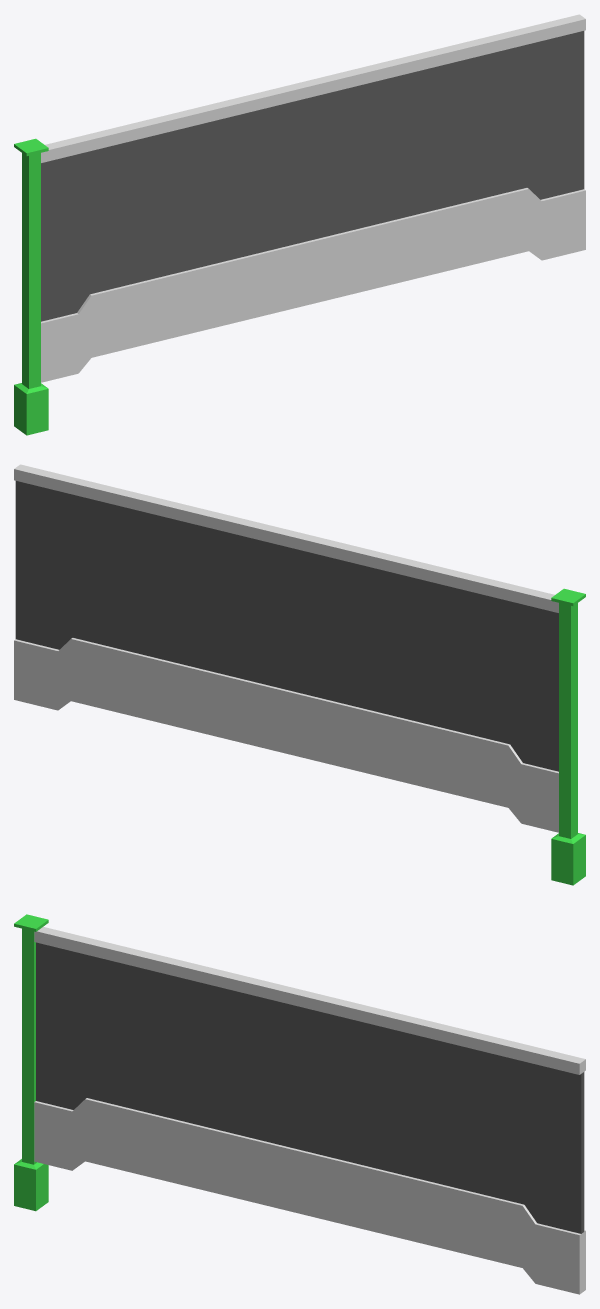
The model's file is FenceElegant00_x2.5.fbx.
3 views of the same model, one above another, from view 1: azimuth 30°, elevation 25°; view 2: azimuth 150°, elevation 25°; view 3: azimuth 330°, elevation 25° (orthographic).
Visible parts, largest first — view 1: FenceElegant00_x2.5; view 2: FenceElegant00_x2.5; view 3: FenceElegant00_x2.5.
Part boxes in pixels (<box>): FenceElegant00_x2.5: <box>14,14,585,435</box>; FenceElegant00_x2.5: <box>14,464,585,885</box>; FenceElegant00_x2.5: <box>14,914,585,1294</box>.
Bounding box in the file's own units: 255 × 122 × 10.
